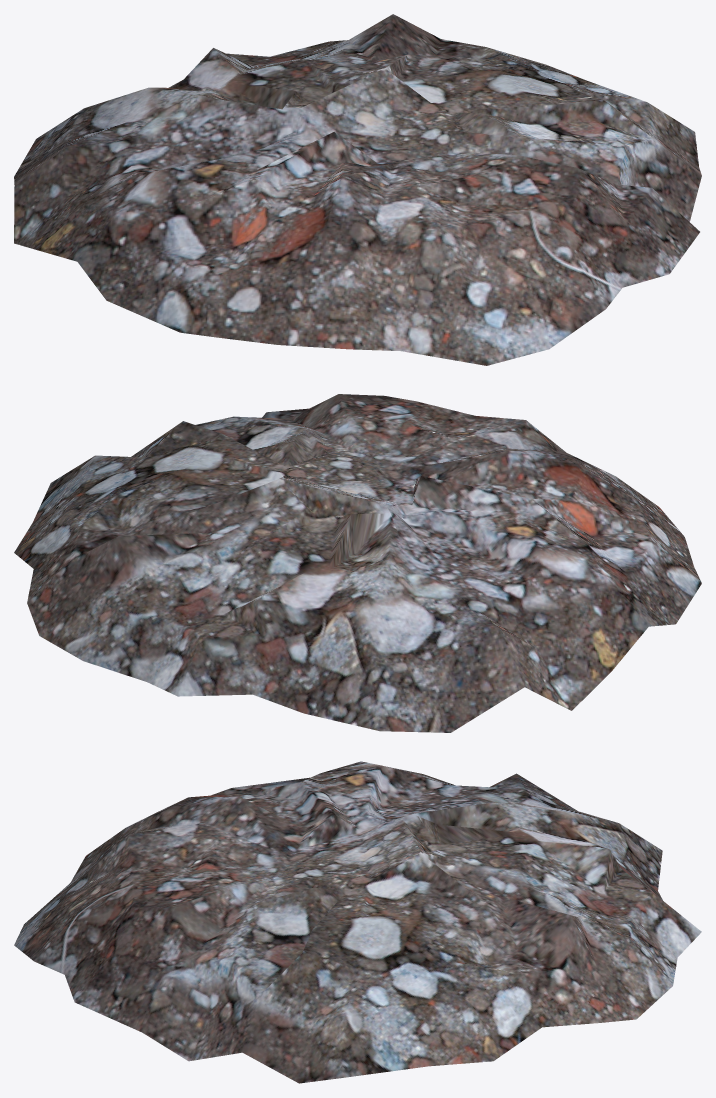
File: prop_debris_small_entulho.glb
3 views of the same model, one above another, from view 1: azimuth 30°, elevation 25°; view 2: azimuth 150°, elevation 25°; view 3: azimuth 270°, elevation 25° (orthographic). The views are drawn at different scales.
Visible parts, largest first — view 1: prop_debris_small_entulho_mesh; view 2: prop_debris_small_entulho_mesh; view 3: prop_debris_small_entulho_mesh.
Part boxes in pixels (x1=…): prop_debris_small_entulho_mesh: x1=14, y1=14, x2=701, y2=365; prop_debris_small_entulho_mesh: x1=14, y1=394, x2=701, y2=732; prop_debris_small_entulho_mesh: x1=14, y1=761, x2=701, y2=1083.
Size of the model in its own units: 2.29 by 0.45 by 2.3.
1 material, 1 textured.
